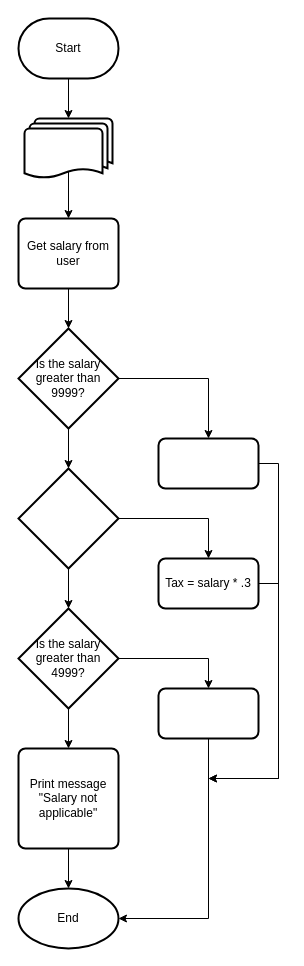
The diagram is 304 pixels wide and 966 high, and some of its shapes have lost their labels. The box of each missing label's shape, as (x1, y1, x2, y2) in pixels:
Display program instructions: (23, 117, 113, 179)
Is the salary greater than 7999?: (17, 467, 119, 569)
Tax = salary * .2: (157, 687, 259, 739)
Tax = salary * .4: (157, 437, 259, 489)
